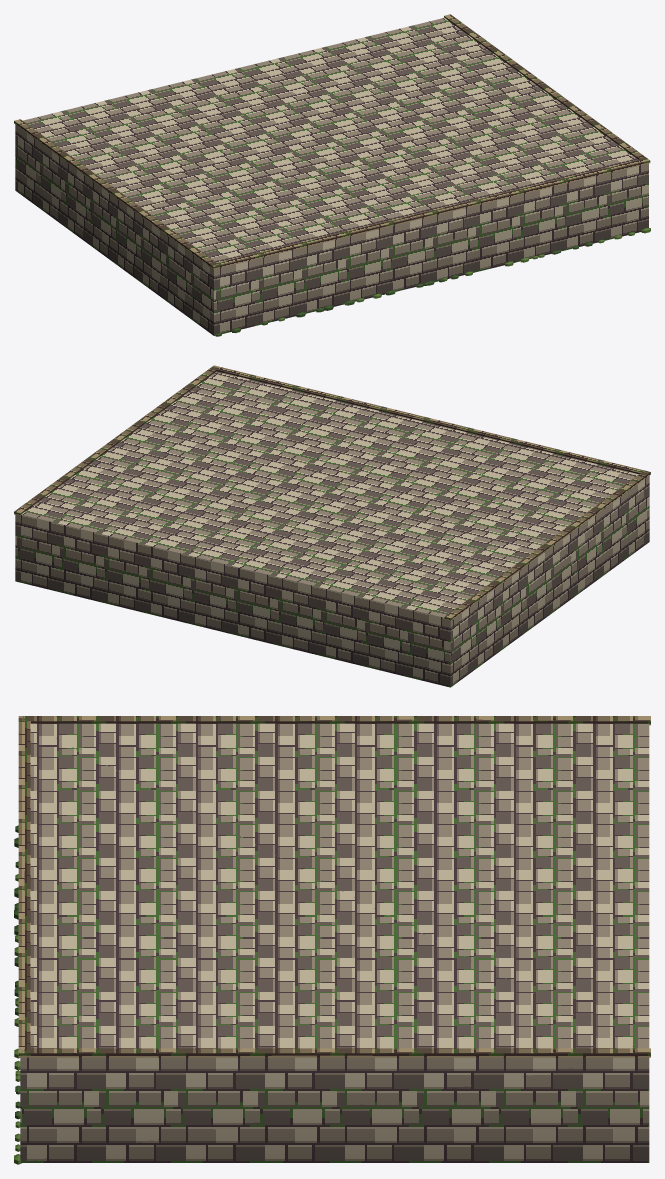
Rendered from scene_wall_n.glb.
The picture shows the model from 3 angles, top to bottom: view 1: azimuth 30°, elevation 25°; view 2: azimuth 150°, elevation 25°; view 3: azimuth 270°, elevation 25°; orthographic projection. The views are drawn at different scales.
Visible parts, largest first — view 1: scene_wall_n; view 2: scene_wall_n; view 3: scene_wall_n.
Part boxes in pixels (box(x1,y1,x2,y2)): scene_wall_n: box(14, 14, 650, 336); scene_wall_n: box(14, 365, 650, 687); scene_wall_n: box(14, 716, 650, 1164).
Size of the model in its own units: 24.13 by 3.77 by 19.24.
2 materials, 1 textured.
